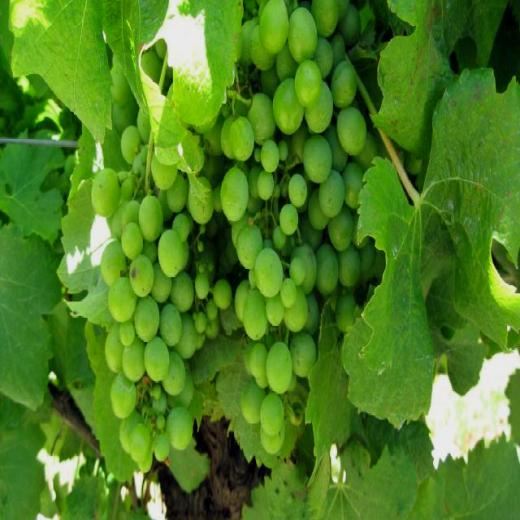Orange: (91, 0, 423, 474)
